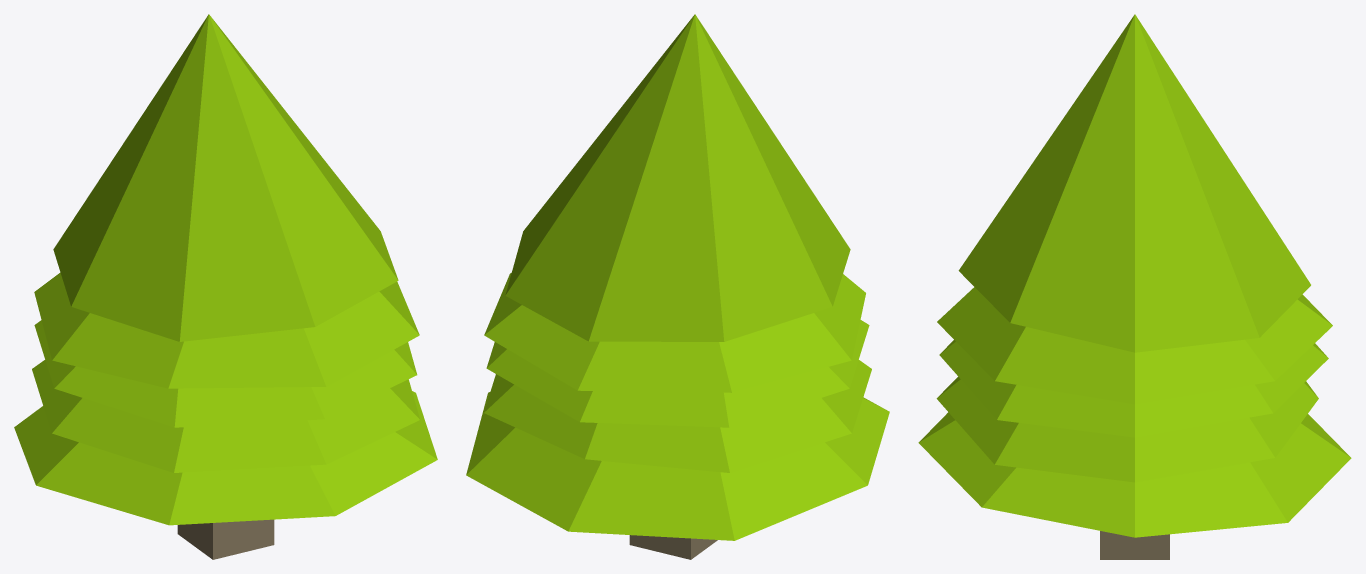
Rendered from pine_skewed_4.fbx.
3 renders of one model, left to right at view 1: azimuth 30°, elevation 25°; view 2: azimuth 150°, elevation 25°; view 3: azimuth 270°, elevation 25°, orthographic.
Parts seen in each view (by area): view 1: pine_skewed_4; view 2: pine_skewed_4; view 3: pine_skewed_4.
Boxes of the visible parts, x1,y1,x2,y2 form: pine_skewed_4: (14, 14, 437, 559); pine_skewed_4: (466, 14, 889, 559); pine_skewed_4: (918, 14, 1351, 559).
Size of the model in its own units: 138 by 183 by 138.
